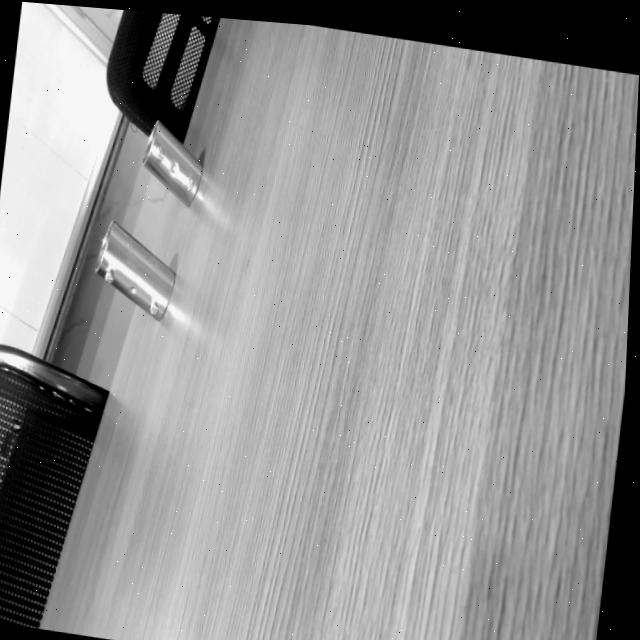Co_Lon: (80, 219, 190, 324)
Co_Nho: (129, 119, 217, 208)
